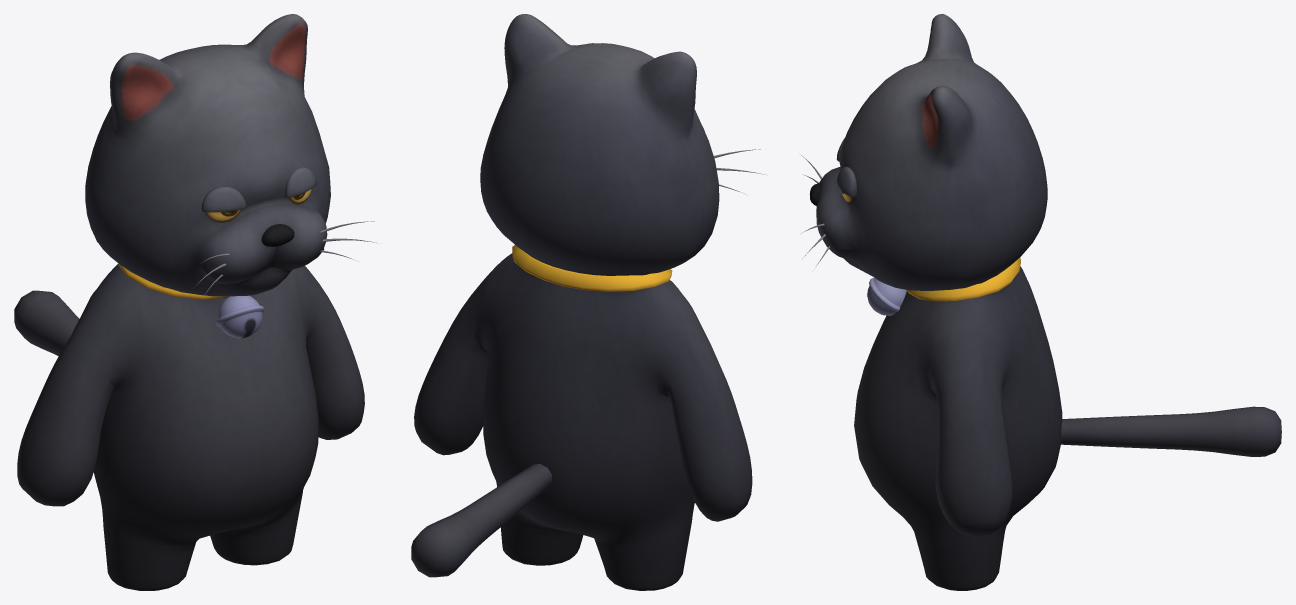
The model's file is GraycatLumber.fbx.
The picture shows the model from 3 angles, left to right: view 1: azimuth 30°, elevation 25°; view 2: azimuth 150°, elevation 25°; view 3: azimuth 270°, elevation 25°; orthographic projection. The views are drawn at different scales.
Parts seen in each view (by area): view 1: Cat_Body, Cat_Tail, Cat_Acc; view 2: Cat_Body, Cat_Tail, Cat_Acc; view 3: Cat_Body, Cat_Tail, Cat_Acc.
Part boxes in pixels (x1,y1,x2,y2): Cat_Body: (17,14,377,590); Cat_Tail: (14,290,79,356); Cat_Acc: (118,263,264,338); Cat_Body: (414,14,764,590); Cat_Tail: (411,464,551,577); Cat_Acc: (512,245,672,291); Cat_Body: (801,14,1062,590); Cat_Tail: (1061,406,1281,456); Cat_Acc: (867,257,1020,315).
Size of the model in its own units: 228 by 349 by 305.
1 material, 1 textured.
